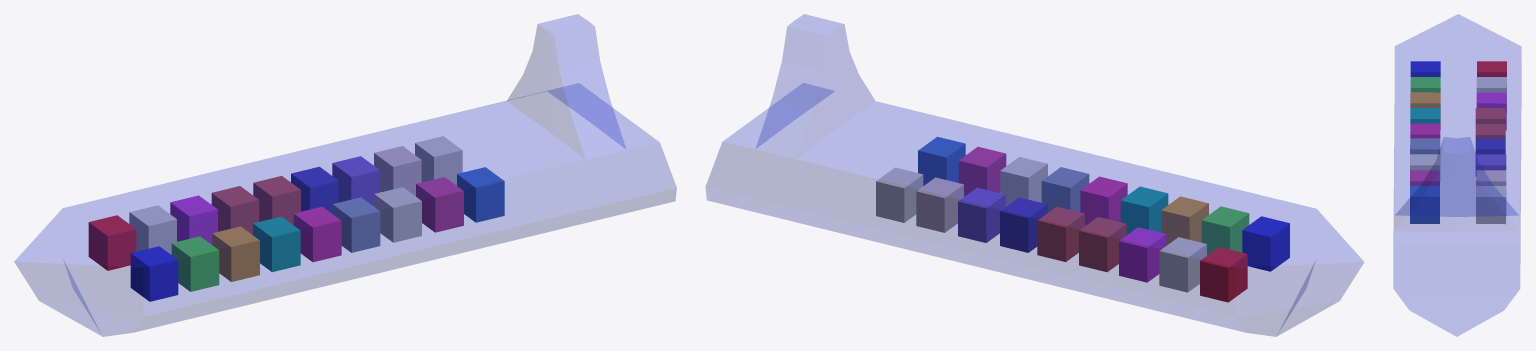
The model's file is ShipEmbeddedData.gltf.
3 renders of one model, left to right at view 1: azimuth 30°, elevation 25°; view 2: azimuth 150°, elevation 25°; view 3: azimuth 270°, elevation 25°, orthographic. The views are drawn at different scales.
Parts seen in each view (by area): view 1: Ship, R001, R002, R003, R009, R013, R015, R005, R007, R017, R011, R014 (+7 smaller); view 2: Ship, R002, R001, R016, R010, R014, R004, R018, R006, R008, R012, R015 (+7 smaller); view 3: Ship, R018, R017, R012, R006, R013, R011, R014, R005, R004, R001, R007 (+7 smaller).
Part boxes in pixels (x1,y1,x2,y2): Ship: (14,14,676,336); R001: (130,246,178,301); R002: (88,215,136,270); R003: (171,236,219,291); R009: (293,206,341,262); R013: (374,187,421,242); R015: (416,177,463,232); R005: (212,226,259,281); R007: (253,216,300,272); R017: (457,167,504,222); R011: (332,197,380,252); R014: (332,156,379,206); Ship: (705,14,1363,336); R002: (1200,247,1247,302); R001: (1242,216,1289,271); R016: (916,177,963,232); R010: (1037,206,1084,261); R014: (958,187,1005,242); R004: (1159,237,1206,292); R018: (876,167,923,222); R006: (1119,227,1166,282); R008: (1079,217,1126,272); R012: (1000,197,1047,252); R015: (958,146,1006,196); Ship: (1393,14,1521,336); R018: (1476,186,1506,224); R017: (1410,186,1439,223); R012: (1475,138,1505,175); R006: (1476,92,1506,130); R013: (1410,154,1440,181); R011: (1410,138,1440,154); R014: (1476,154,1506,170); R005: (1410,92,1440,129); R004: (1476,77,1506,112); R001: (1410,61,1440,76); R007: (1410,108,1440,123).
Bounding box in the file's own units: 13.65 × 4.03 × 3.
